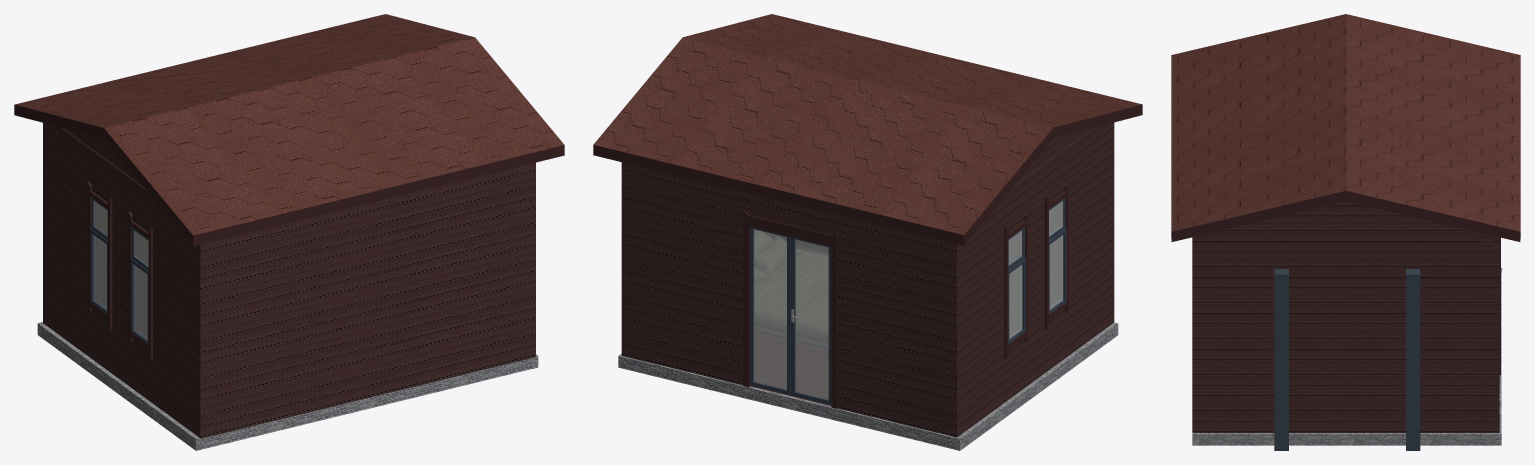
Rendered from 体验房6.fbx.
3 views of the same model, side by side, from view 1: azimuth 30°, elevation 25°; view 2: azimuth 150°, elevation 25°; view 3: azimuth 270°, elevation 25° (orthographic). The views are drawn at different scales.
Visible parts, largest first — view 1: Box614, 对象771, Box615, 对象629, 对象631, 对象634, Box620, Box622, Box999, 对象636, 对象633; view 2: Box614, 对象771, Box615, 对象629, 对象630, 对象638, Obj3d66-708422-2-386, 图形035, 对象770, 图形036, 图形037, 对象631 (+7 smaller); view 3: 对象771, Box614, Box615, 对象629, Box617, Box616.
Part boxes in pixels (x1=…): Box614: x1=43, y1=123, x2=535, y2=438; 对象771: x1=15, y1=14, x2=564, y2=235; Box615: x1=37, y1=322, x2=538, y2=450; 对象629: x1=14, y1=104, x2=564, y2=245; 对象631: x1=128, y1=211, x2=152, y2=359; 对象634: x1=88, y1=182, x2=112, y2=329; Box620: x1=134, y1=265, x2=147, y2=339; Box622: x1=93, y1=235, x2=106, y2=309; Box999: x1=139, y1=235, x2=148, y2=335; 对象636: x1=90, y1=228, x2=107, y2=314; 对象633: x1=131, y1=258, x2=148, y2=344; Box614: x1=621, y1=122, x2=1114, y2=437; 对象771: x1=593, y1=14, x2=1141, y2=234; Box615: x1=618, y1=322, x2=1118, y2=450; 对象629: x1=593, y1=104, x2=1142, y2=245; 对象630: x1=753, y1=229, x2=786, y2=389; 对象638: x1=795, y1=239, x2=828, y2=399; Obj3d66-708422-2-386: x1=754, y1=250, x2=828, y2=345; 图形035: x1=743, y1=210, x2=837, y2=408; 对象770: x1=754, y1=245, x2=828, y2=398; 图形036: x1=750, y1=227, x2=790, y2=395; 图形037: x1=791, y1=237, x2=831, y2=405; 对象631: x1=1044, y1=181, x2=1068, y2=329; 对象771: x1=1171, y1=14, x2=1520, y2=231; Box614: x1=1192, y1=201, x2=1499, y2=432; Box615: x1=1192, y1=272, x2=1501, y2=445; 对象629: x1=1171, y1=191, x2=1520, y2=241; Box617: x1=1406, y1=269, x2=1420, y2=450; Box616: x1=1274, y1=269, x2=1288, y2=450.
Bounding box in the file's own units: 29.53 × 20.42 × 24.66.
